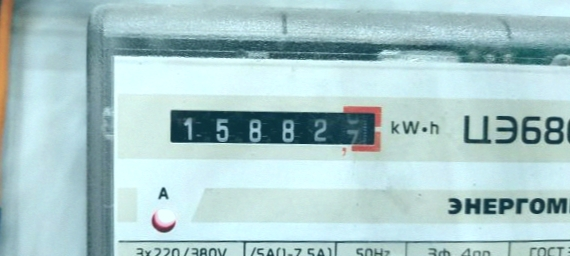1: (180, 110, 195, 138)
2: (311, 112, 328, 141)
5: (212, 112, 231, 139)
7: (343, 123, 360, 141)
8: (245, 113, 262, 141), (279, 113, 295, 141)
screen: (155, 90, 391, 157)
